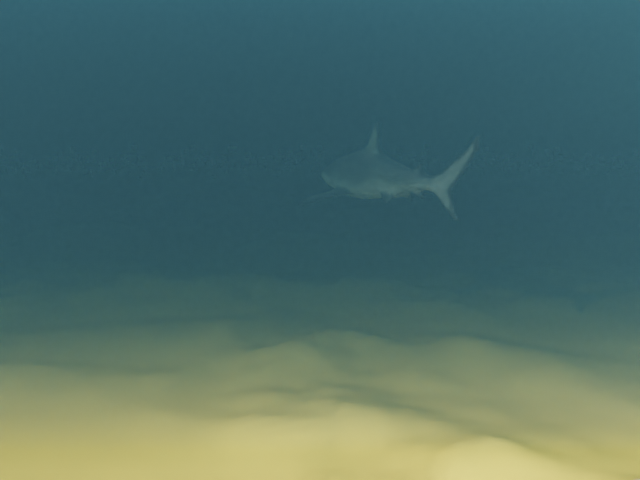Carribean Shark.001: (298, 122, 480, 220)
